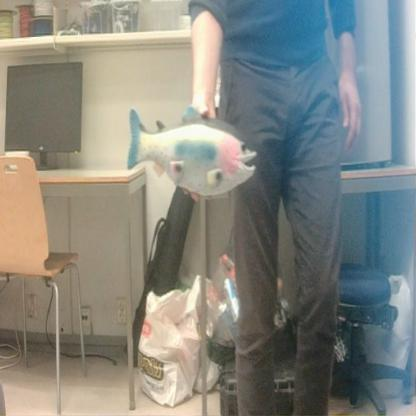rubberfish: (123, 100, 260, 202)
